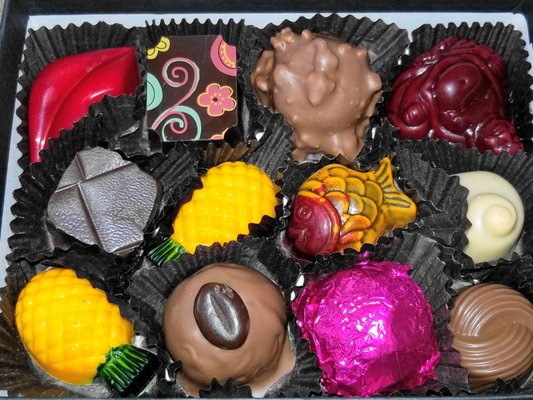sushi: (171, 160, 279, 255)
